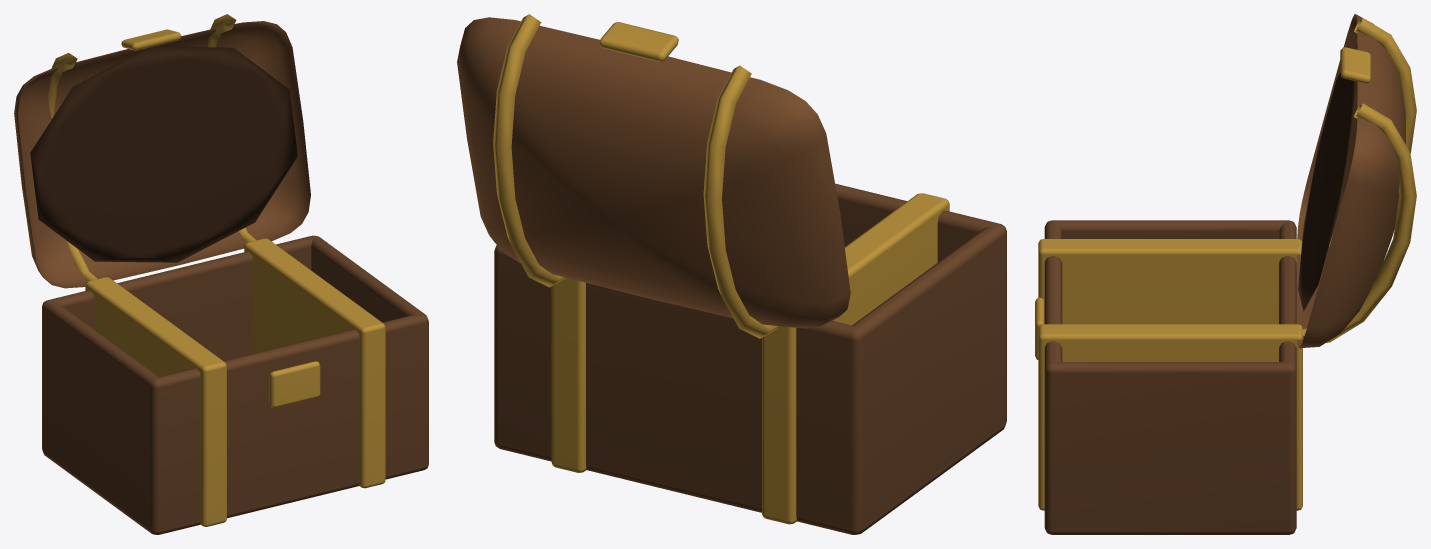
The model's file is furn_lh_trunk_open.glb.
3 views of the same model, side by side, from view 1: azimuth 30°, elevation 25°; view 2: azimuth 150°, elevation 25°; view 3: azimuth 270°, elevation 25° (orthographic). The views are drawn at different scales.
Visible parts, largest first — view 1: furn_lh_trunk_open_main; view 2: furn_lh_trunk_open_main; view 3: furn_lh_trunk_open_main.
Boxes of the visible parts, x1,y1,x2,y2 form: furn_lh_trunk_open_main: [14, 14, 428, 534]; furn_lh_trunk_open_main: [457, 14, 1006, 534]; furn_lh_trunk_open_main: [1035, 14, 1416, 534].
Bounding box in the file's own units: 0.56 × 0.7081 × 0.6057.
